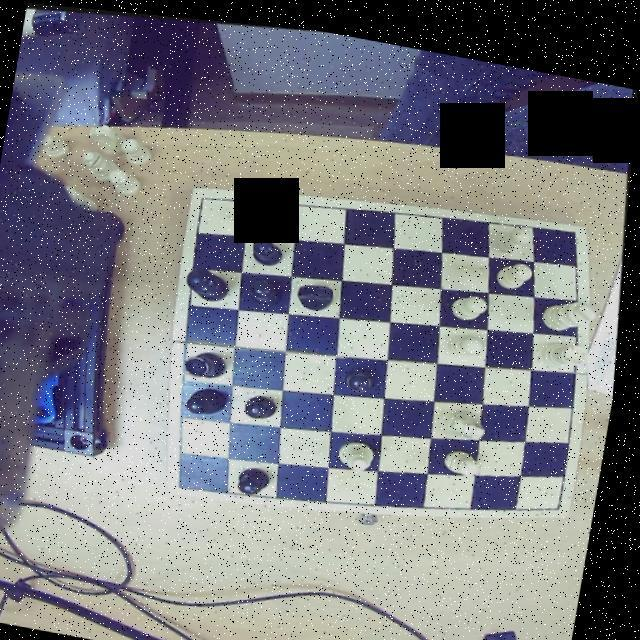chess-table-corners: (176, 464, 206, 492), (191, 183, 220, 209), (560, 209, 591, 231), (554, 480, 580, 504)
